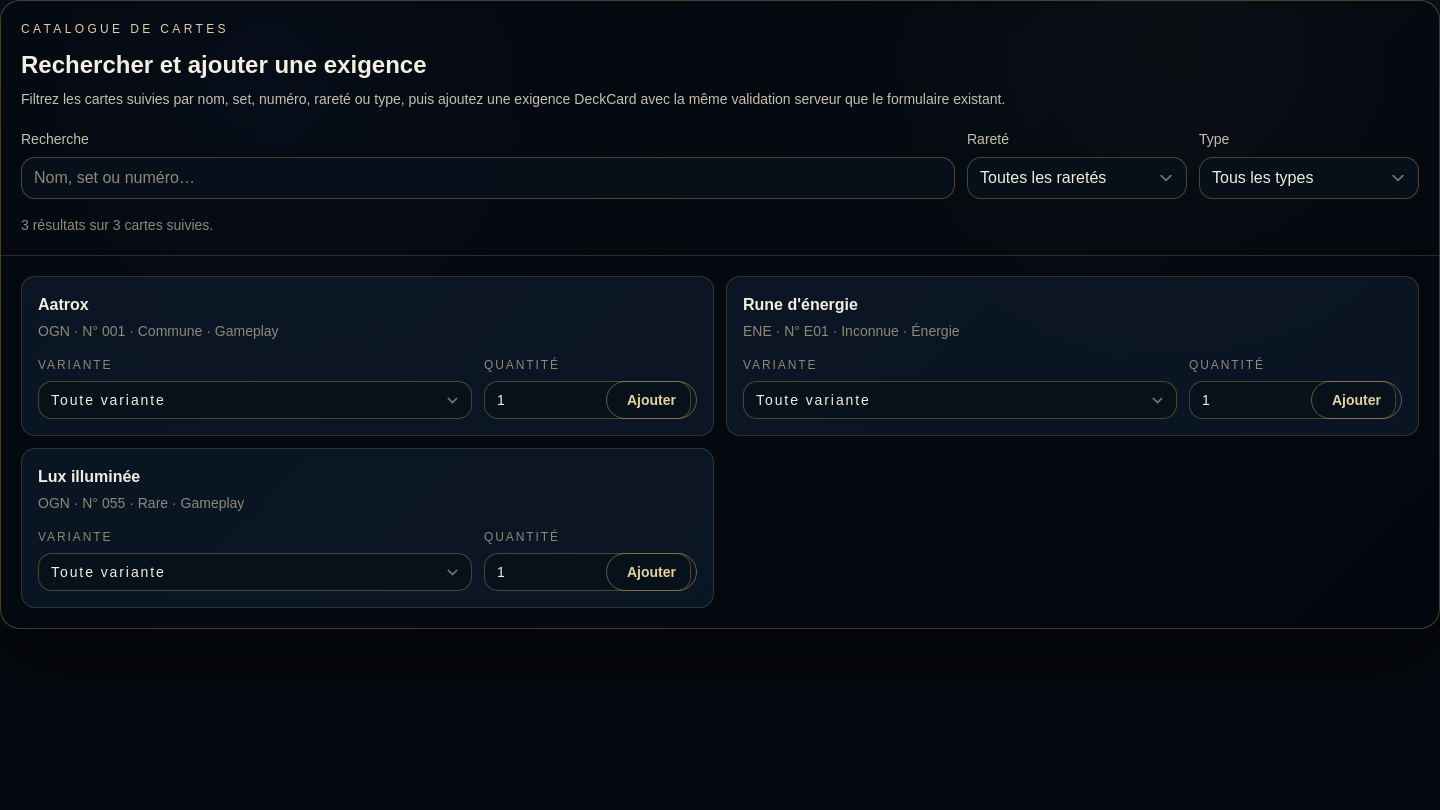
DeckCardCatalog › shows and filters rarity and kind information
The image size is (1440, 810).
expect the text "OGN · N° 055 · Rare · Gameplay" is shown: met, box [38, 493, 244, 513]
Select "Rare" in the dropdown labelled "Rareté" at [1077, 178], box [967, 157, 1187, 199]
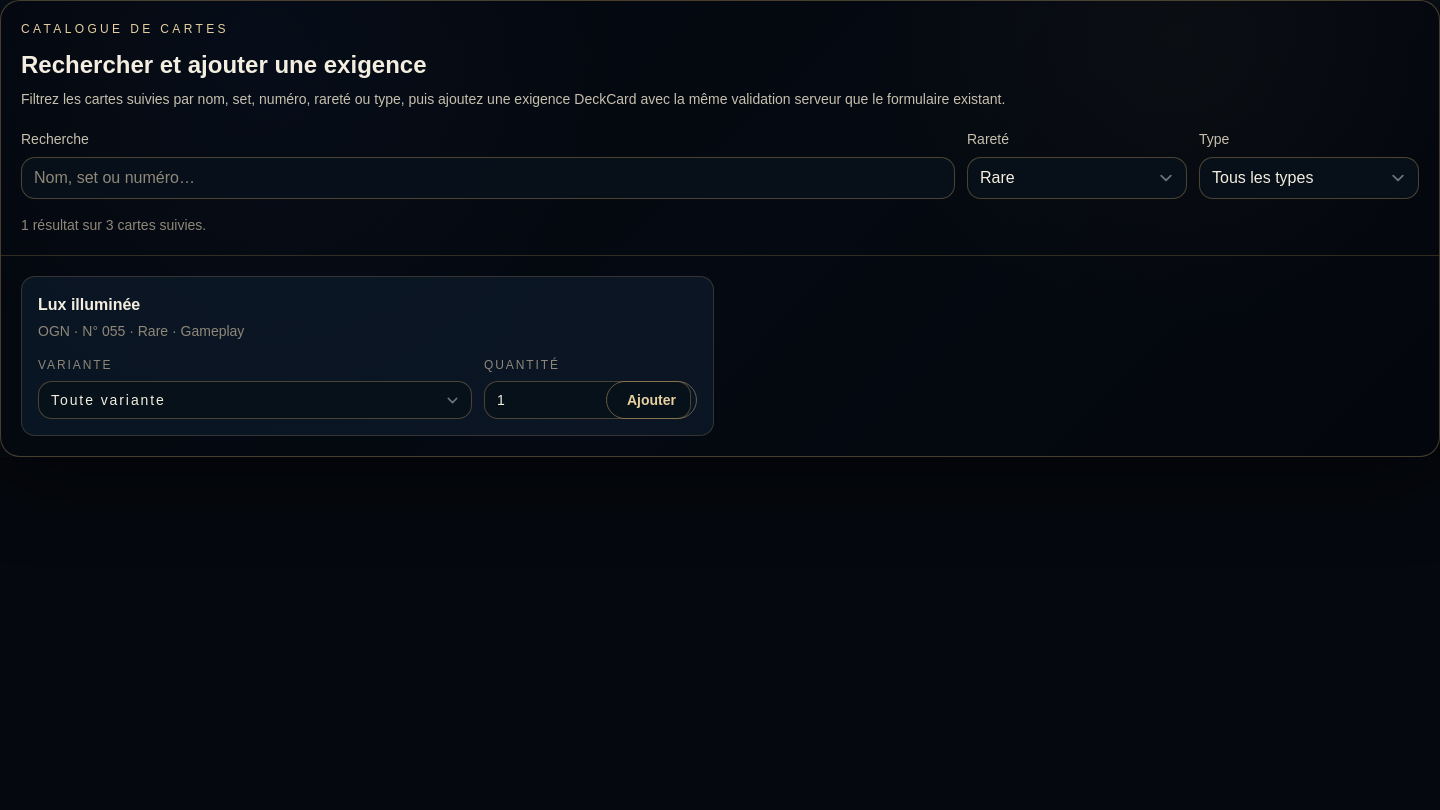
expect the text "Lux illuminée" is shown: met, box [38, 296, 140, 313]
expect the text "Aatrox" is gone: met
Select "Toutes les raretés" in the dropdown labelled "Rareté" at [1077, 178], box [967, 157, 1187, 199]
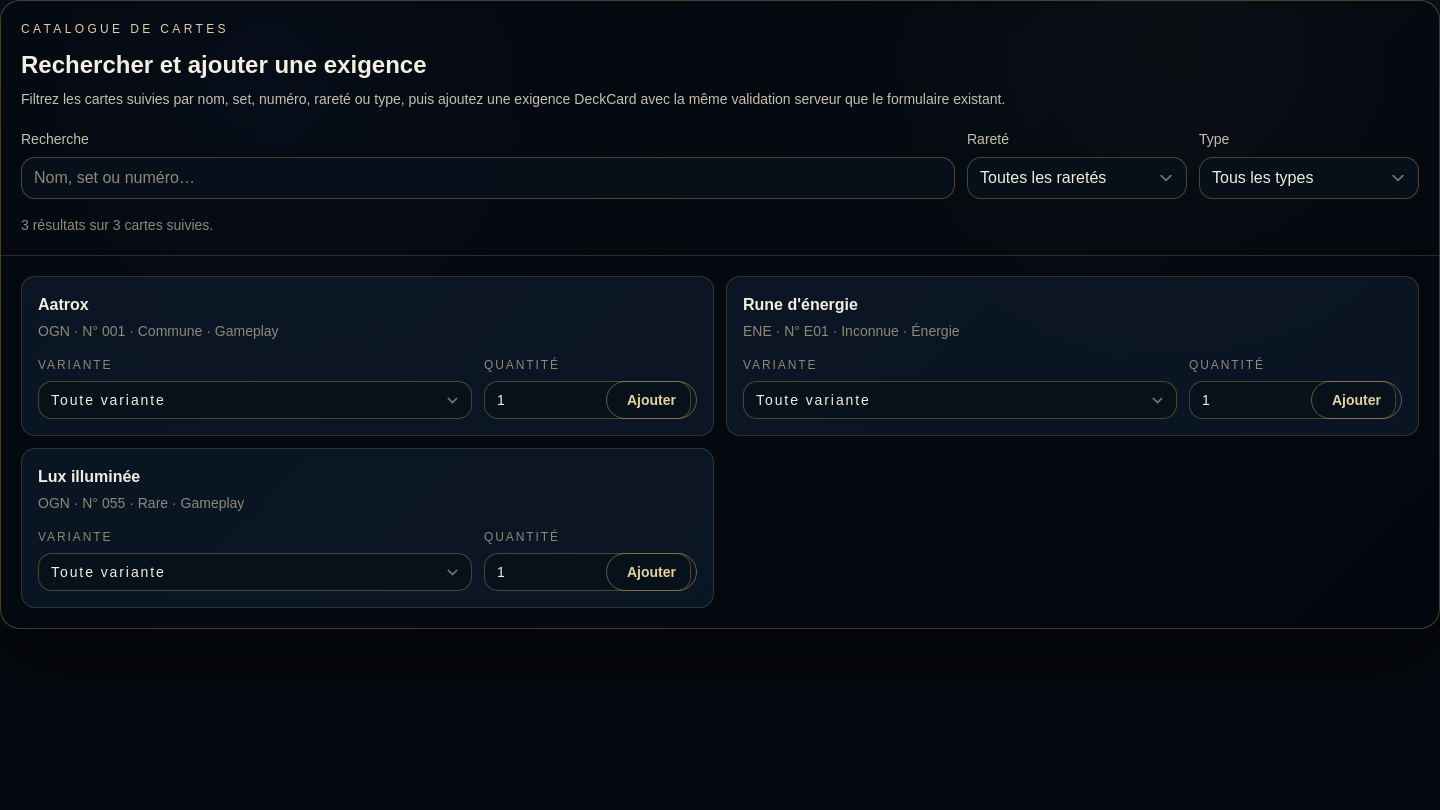
Select "Énergie" in the dropdown labelled "Type" at [1309, 178], box [1199, 157, 1419, 199]
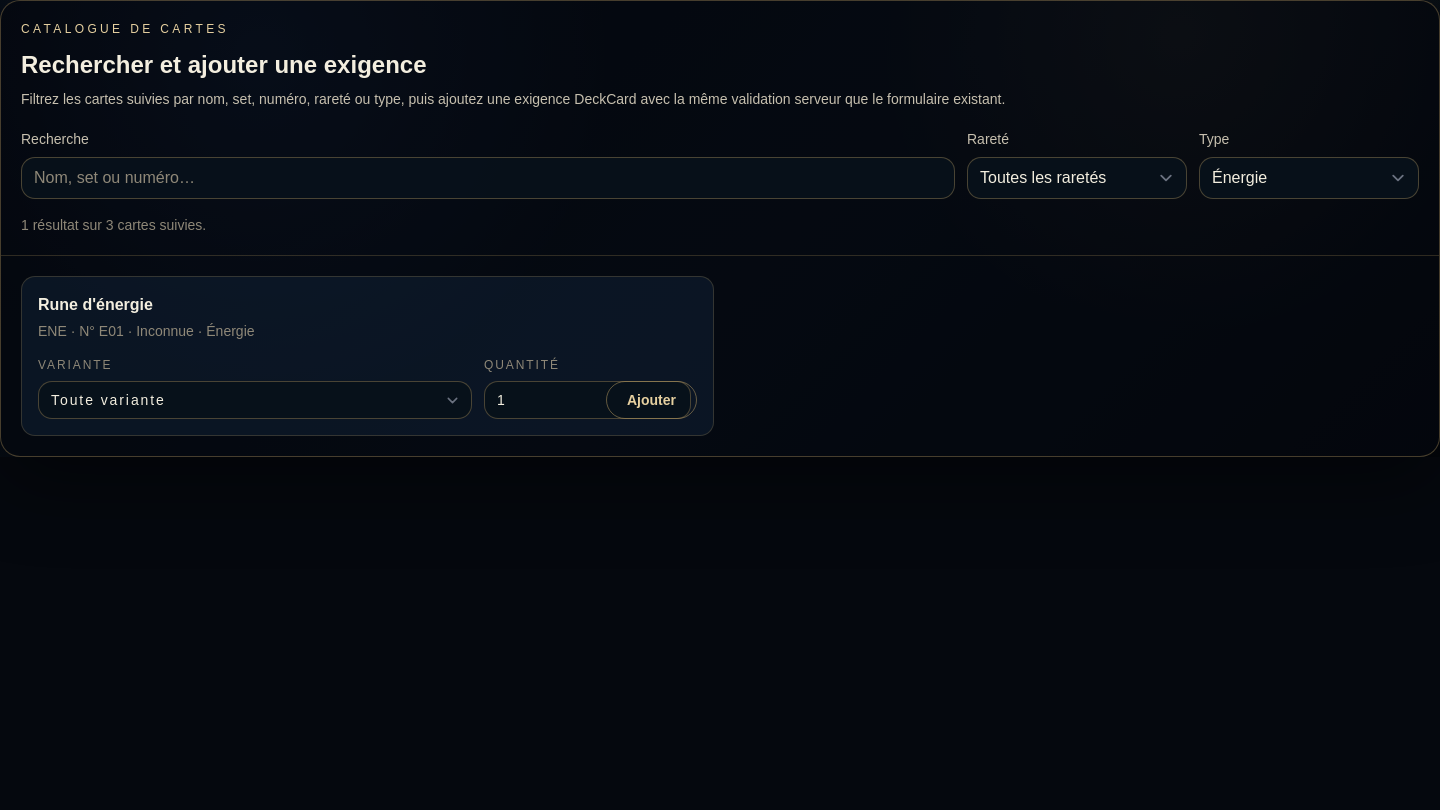
expect the text "Rune d'énergie" is shown: met, box [38, 296, 153, 313]
expect the text "Lux illuminée" is gone: met
